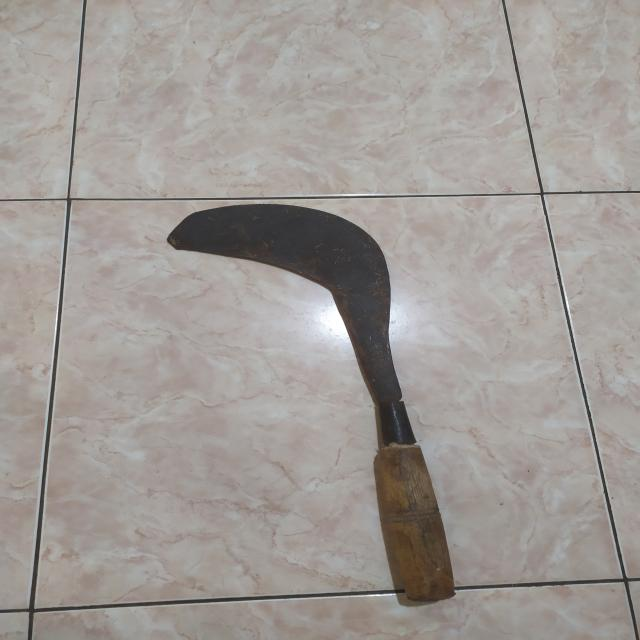Celurit: (170, 204, 460, 609)
